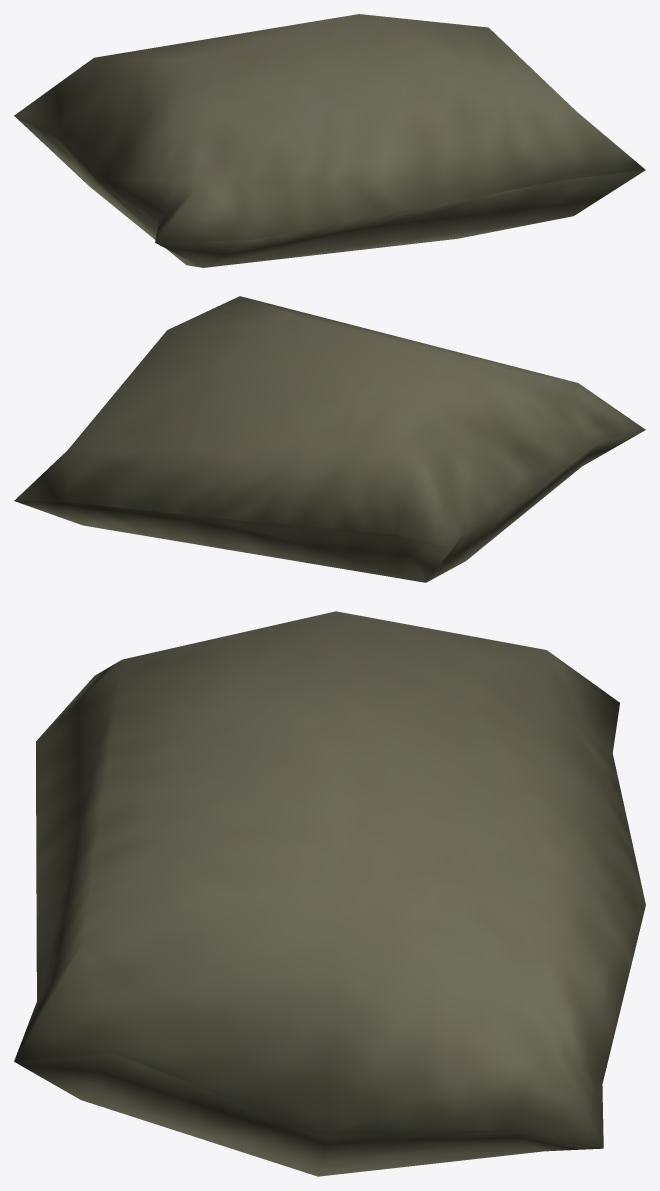
The model's file is ZZL_Item_15.FBX.
3 views of the same model, one above another, from view 1: azimuth 30°, elevation 25°; view 2: azimuth 150°, elevation 25°; view 3: azimuth 270°, elevation 25° (orthographic). The views are drawn at different scales.
Visible parts, largest first — view 1: ZZL_Item_15; view 2: ZZL_Item_15; view 3: ZZL_Item_15.
Part boxes in pixels (box(x1,y1,x2,y2)): ZZL_Item_15: box(14, 14, 645, 267); ZZL_Item_15: box(14, 296, 645, 582); ZZL_Item_15: box(14, 611, 645, 1176).
Size of the model in its own units: 182 by 88.18 by 133.
